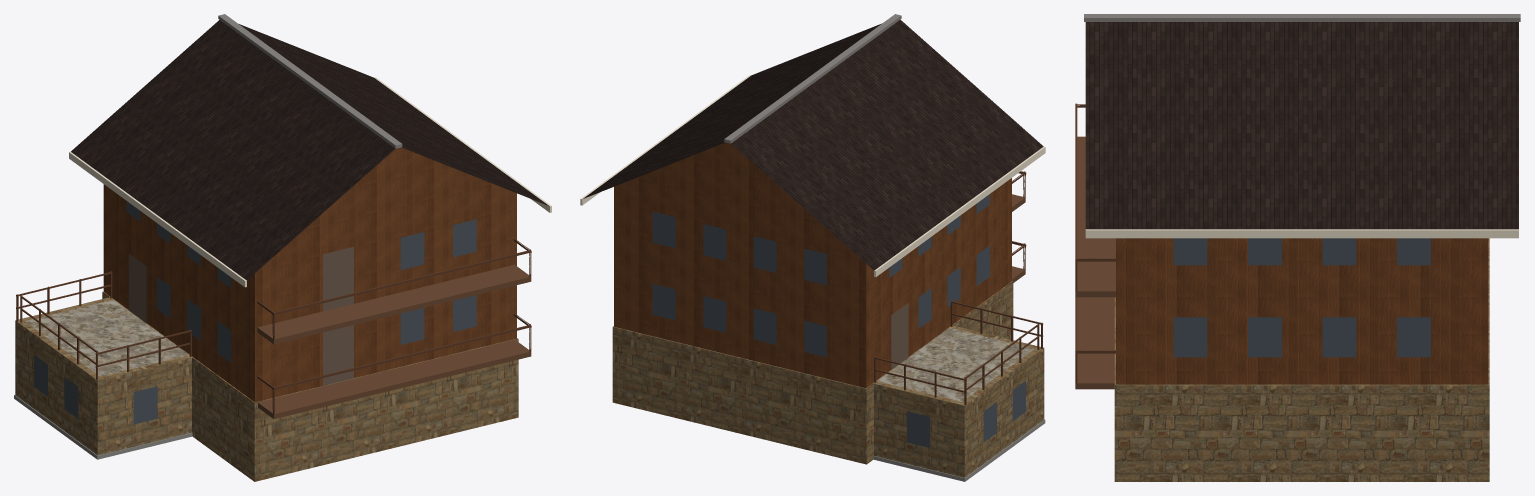
File: rw-chalet.zfix-v22.lod1.glb
The picture shows the model from 3 angles, left to right: view 1: azimuth 30°, elevation 25°; view 2: azimuth 150°, elevation 25°; view 3: azimuth 270°, elevation 25°; orthographic projection. The views are drawn at different scales.
Visible parts, largest first — view 1: rw-chalet; view 2: rw-chalet; view 3: rw-chalet.
Boxes of the visible parts, x1,y1,x2,y2 form: rw-chalet: (14,14,551,481); rw-chalet: (580,14,1045,481); rw-chalet: (1075,14,1520,481).
Size of the model in its own units: 15.97 by 12.6 by 13.18.
Materials: 5 (4 with a texture image).
